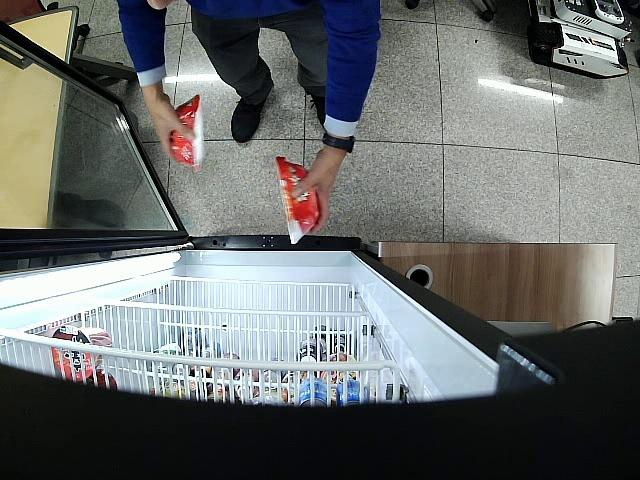00_hand: (290, 149, 339, 233), (143, 94, 195, 156)
10_wangTtukkeong: (275, 155, 320, 243), (172, 95, 206, 172)
